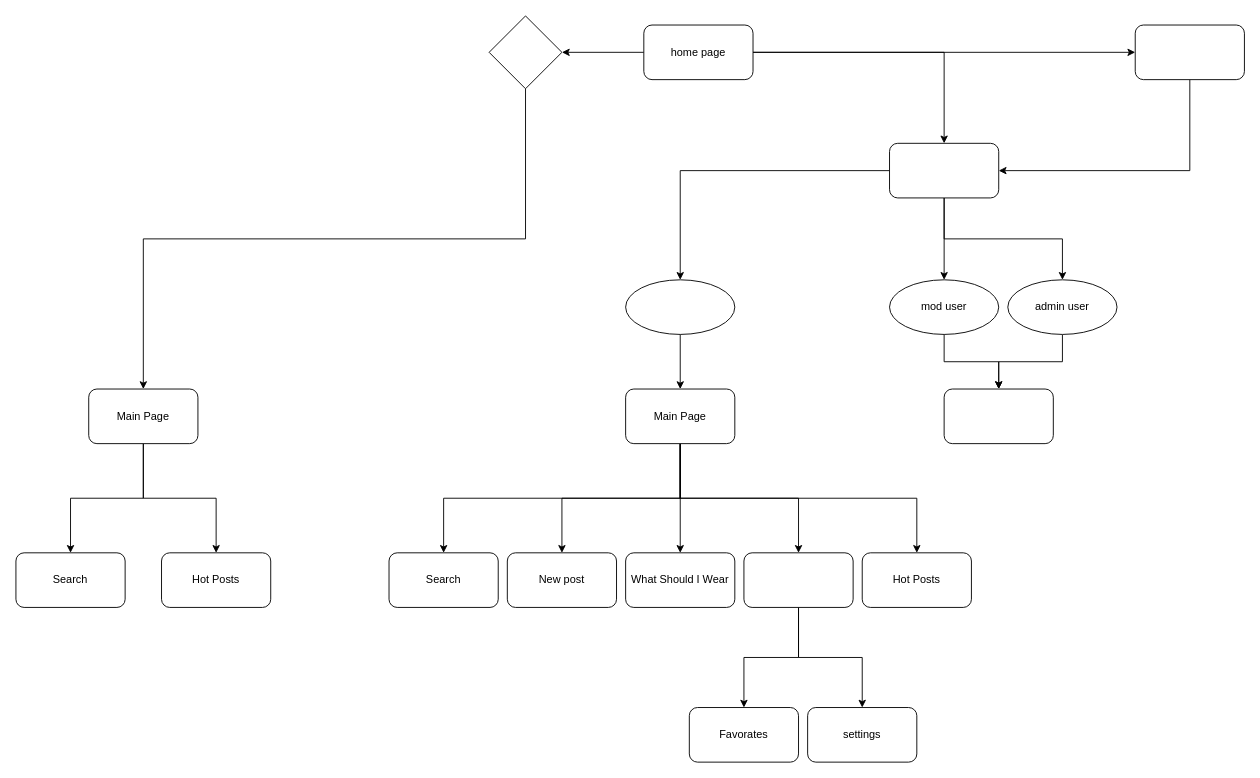
The diagram is 1260 pixels wide and 778 high, and some of its shapes have lost their labels. Each missing label, with the centre of its shape:
Create User: the point at 1189,52
Login: the point at 944,170
My profile: the point at 798,579
norm user: the point at 680,306
not logged in: the point at 525,52
Overview page: the point at 998,416
